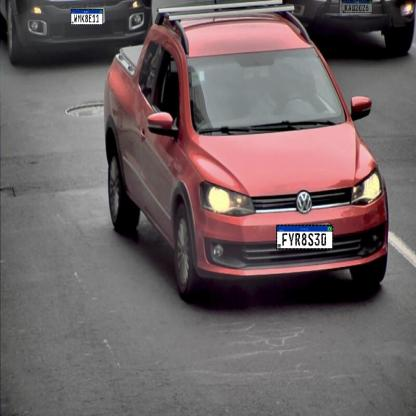PlacaM: (276, 224, 333, 249), (71, 9, 103, 25), (342, 0, 372, 13)
